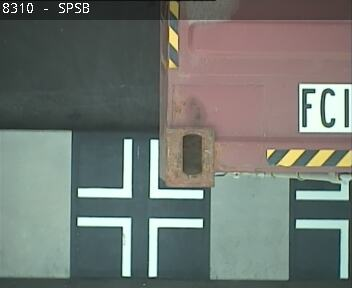groundmarker_1: (77, 138, 204, 199), (77, 215, 203, 275)
